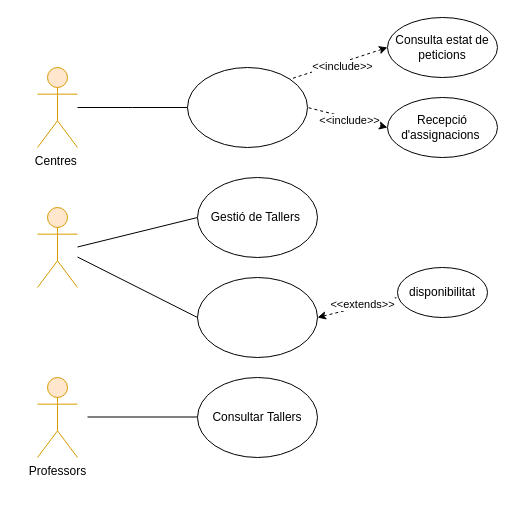
This 515x511 diagram has some shape labels left out. The shapes that lost their labels are listed below. From the top down, each one's centre as x and y in pixels, then its label:
At pixel 247 107: "Petició de tallers".
At pixel 57 247: "Administradors".
At pixel 257 317: "Gestió de Professors".
